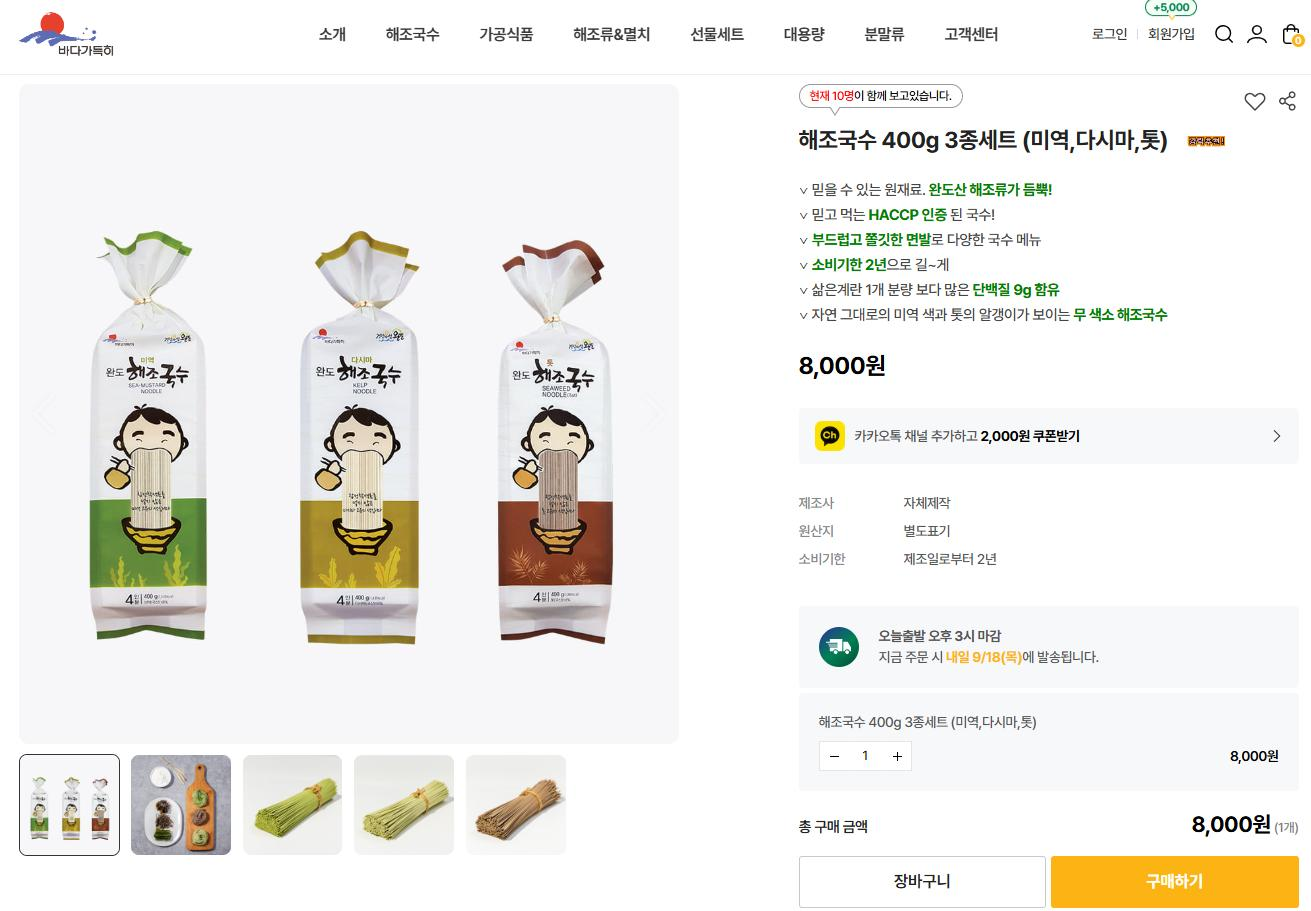button: (799, 406, 1299, 464), (1052, 856, 1301, 910), (799, 855, 1046, 907), (465, 752, 566, 858), (129, 754, 231, 856), (16, 754, 117, 857), (354, 754, 455, 856), (243, 753, 343, 856), (559, 12, 660, 53), (937, 13, 1014, 57), (472, 11, 545, 57), (771, 9, 834, 59), (858, 8, 915, 61), (687, 14, 753, 59), (377, 10, 449, 51), (819, 741, 912, 772), (1144, 20, 1203, 52), (1085, 21, 1136, 57), (312, 13, 358, 51), (1276, 84, 1309, 118), (1278, 17, 1308, 53), (1241, 85, 1273, 118), (1245, 19, 1275, 54), (1213, 18, 1239, 53)
popup: (790, 77, 969, 121), (1137, 0, 1205, 20)
